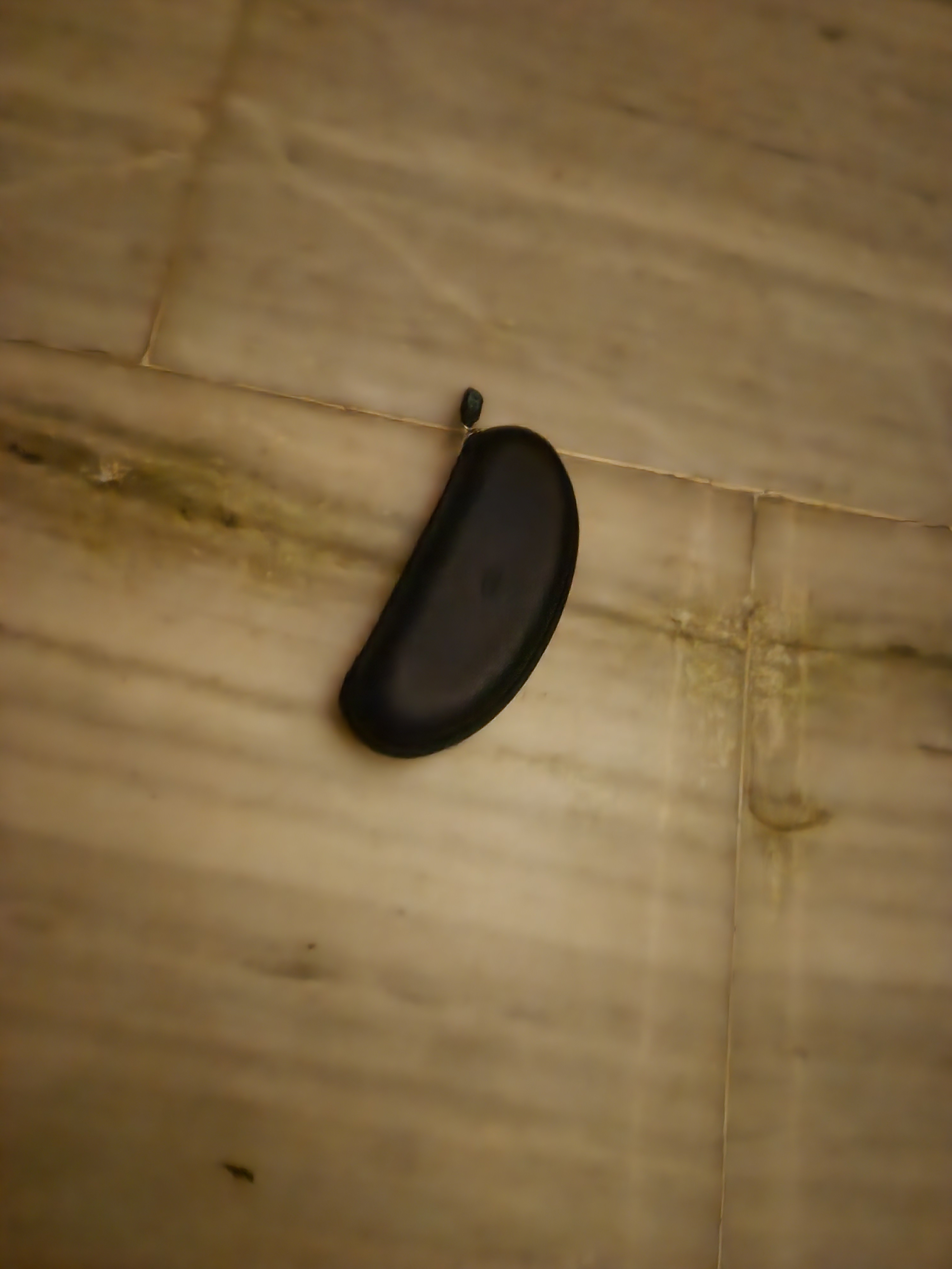case: (327, 385, 588, 767)
